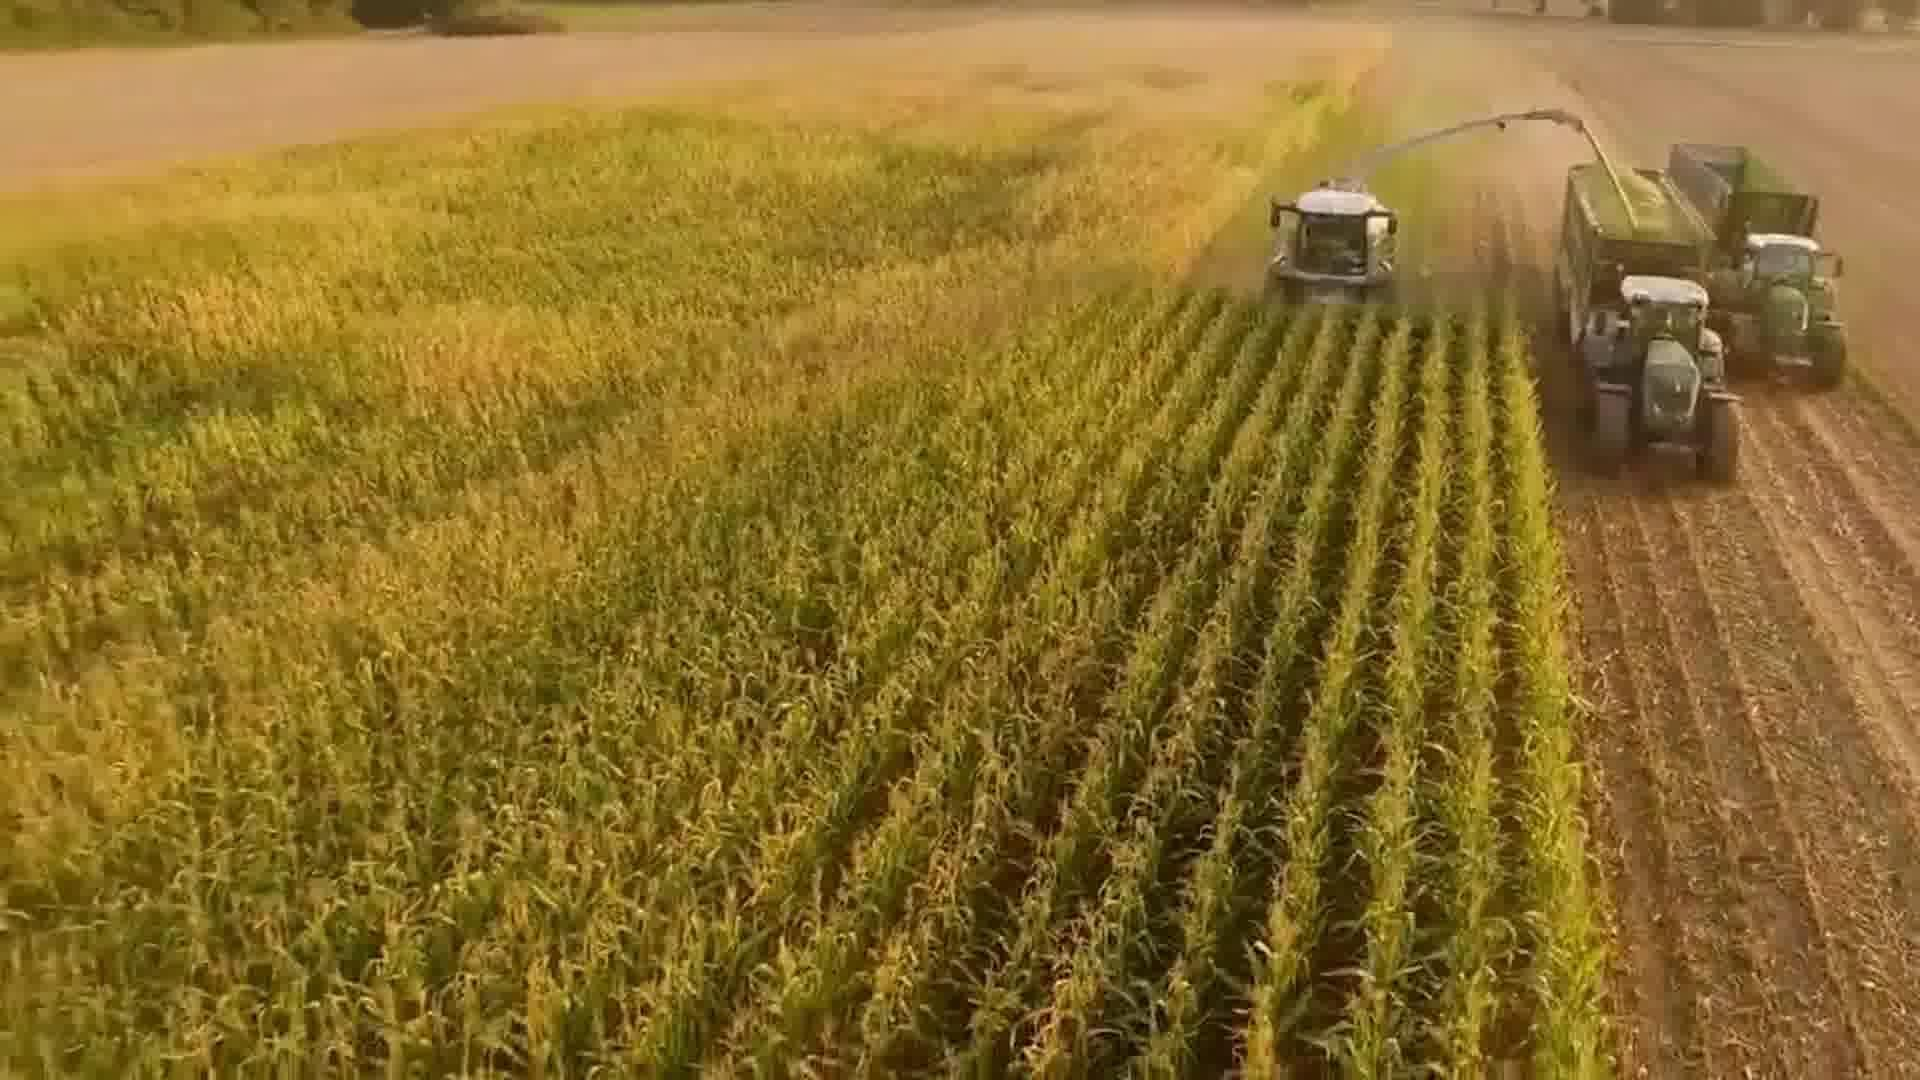combine harvester: (1253, 102, 1590, 324)
tractor: (1572, 273, 1747, 488), (1709, 224, 1854, 392)
trailer: (1552, 152, 1718, 287), (1663, 133, 1829, 247)
